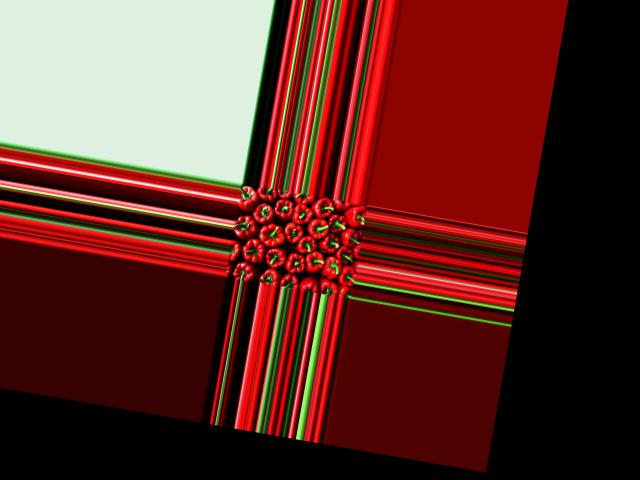bell_pepper: (343, 203, 366, 226)
